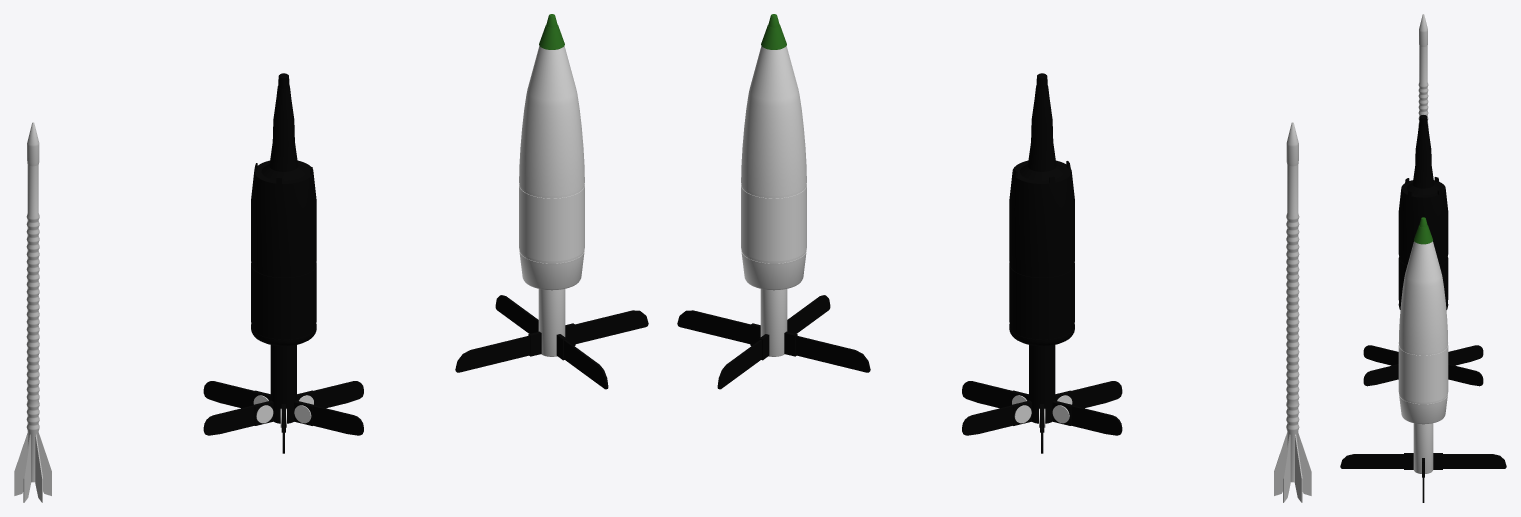
The model's file is 炮弹模型.fbx.
3 renders of one model, left to right at view 1: azimuth 30°, elevation 25°; view 2: azimuth 150°, elevation 25°; view 3: azimuth 270°, elevation 25°, orthographic. The views are drawn at different scales.
Visible parts, largest first — view 1: HE, HEAT_FS, APFSDS; view 2: HE, HEAT_FS, APFSDS; view 3: HE, HEAT_FS, APFSDS.
Part boxes in pixels (x1,y1,x2,y2): HE: (455, 14, 648, 389); HEAT_FS: (203, 73, 363, 453); APFSDS: (14, 122, 51, 502); HE: (677, 14, 870, 389); HEAT_FS: (962, 73, 1122, 453); APFSDS: (1274, 122, 1311, 502); HE: (1340, 217, 1506, 502); HEAT_FS: (1363, 115, 1483, 386); APFSDS: (1418, 14, 1428, 124).
Bounding box in the file's own units: 6.39 × 1.95 × 3.62.
